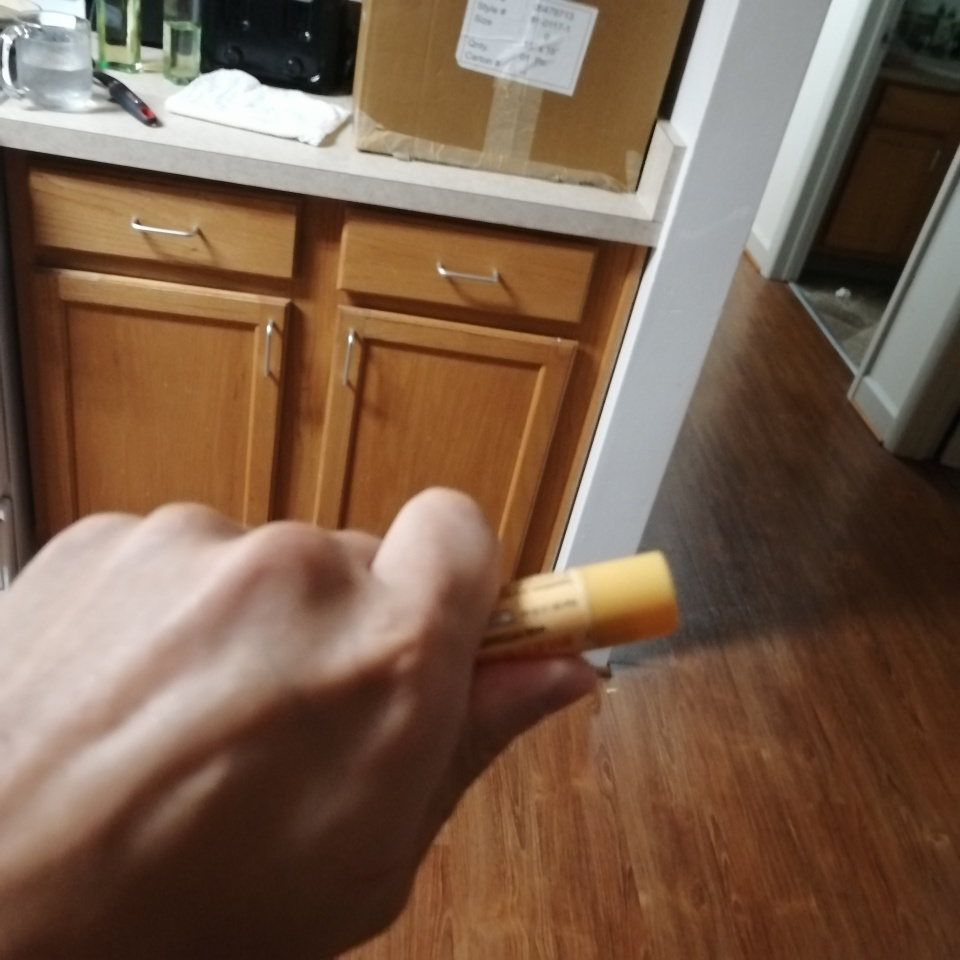chapstick: (473, 547, 682, 662)
